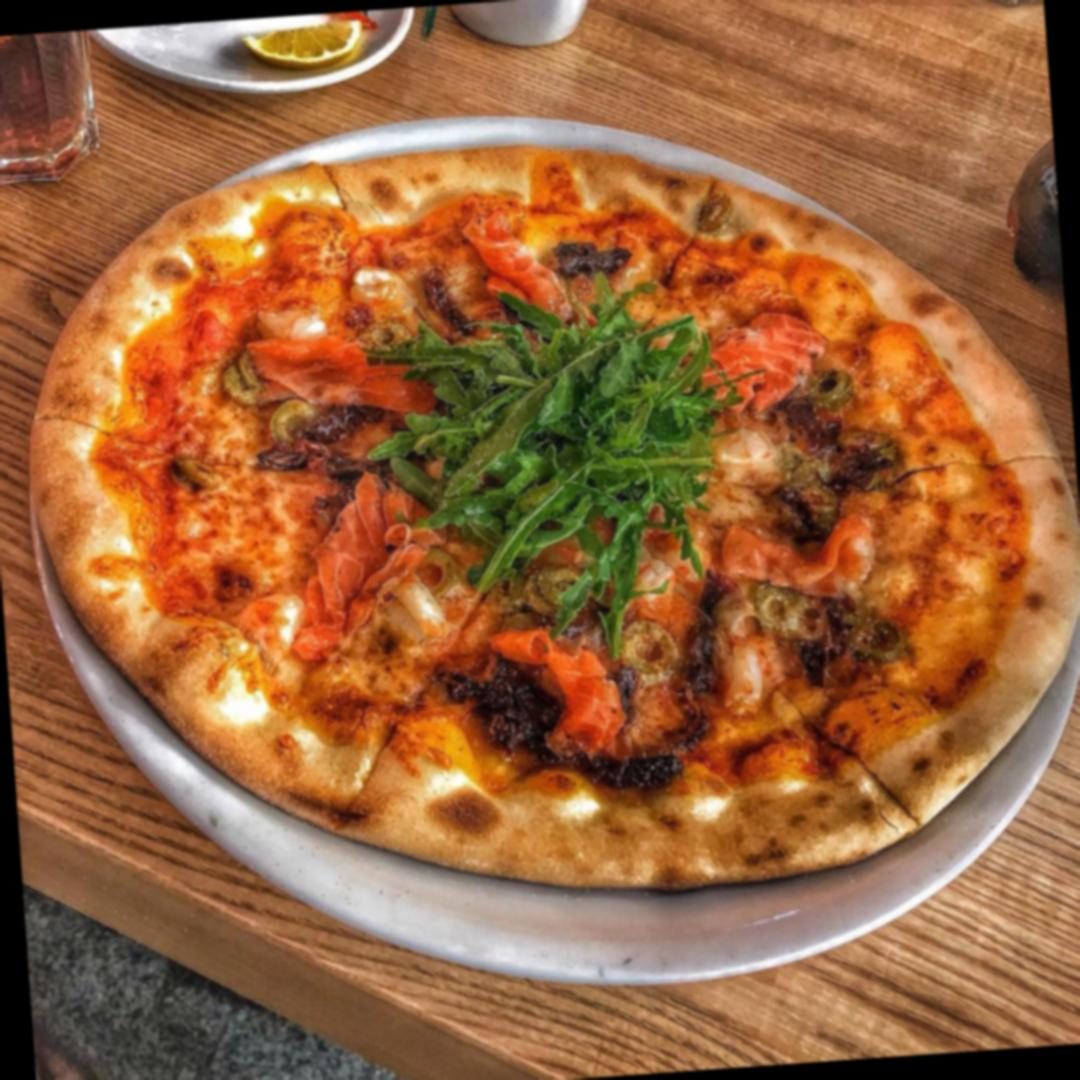Arugula: (430, 324, 684, 534)
Olives: (617, 618, 681, 679), (525, 564, 593, 618), (412, 544, 462, 603), (270, 398, 326, 450), (849, 616, 908, 665), (836, 426, 898, 470), (791, 480, 841, 534), (220, 351, 264, 407), (758, 581, 804, 633), (804, 368, 857, 412), (354, 317, 412, 351), (694, 192, 734, 234), (803, 597, 832, 641)
Pizza: (9, 111, 1080, 939)
